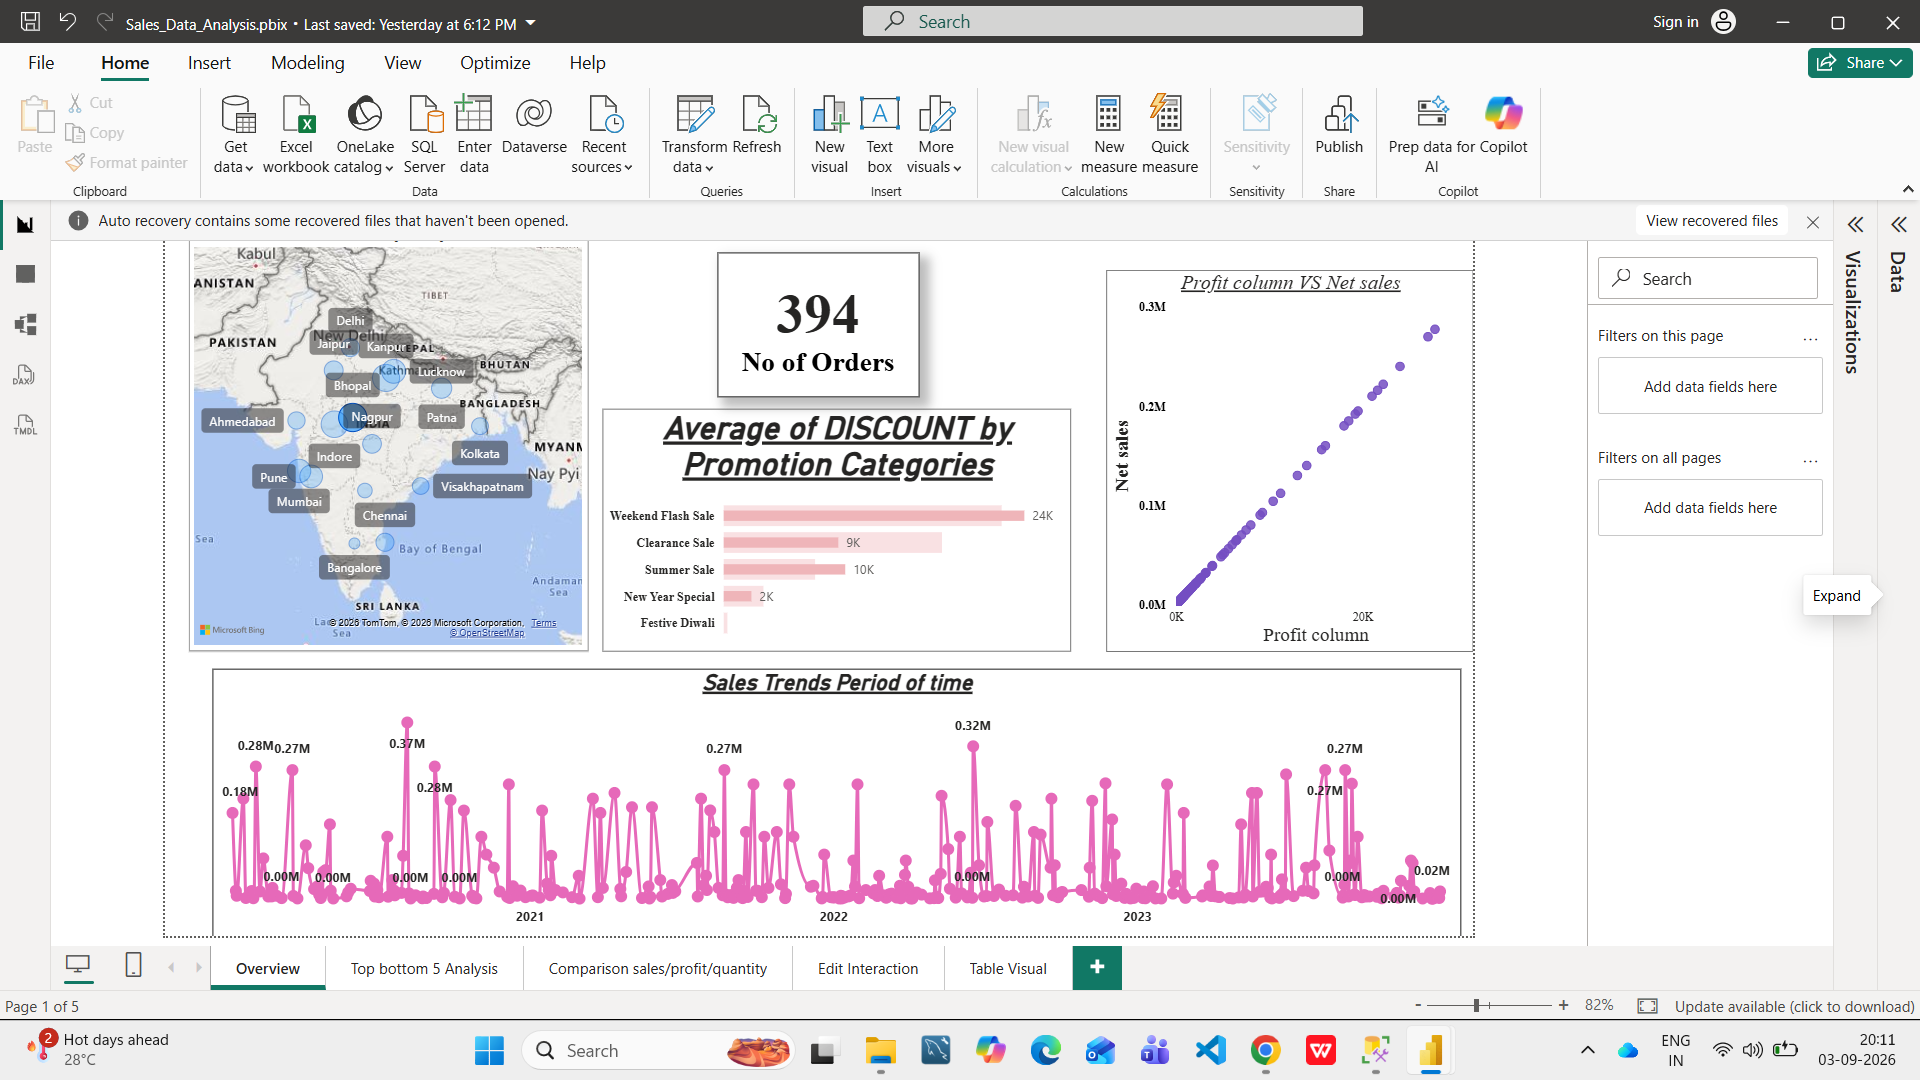

The page's visual inventory and layout, read from the dashboard file:
{"tool":"powerbi","page":{"name":"Overview","canvas":[1280,720],"ordinal":0},"visuals":[{"type":"lineChart","title":"Sales Trends Period of time","fields":{"Y":["Sum(FACT TABLE.Net sales  )"],"Category":["FACT TABLE.Date (dd/mm/yyyy).Variation.Date Hierarchy.Year"]},"box":[46.7,458.3,1221.3,262.1],"z":0},{"type":"scatterChart","title":"Profit column VS Net sales  ","fields":{"X":["FACT TABLE.Profit column"],"Y":["Sum(FACT TABLE.Net sales  )"]},"box":[920.8,68.6,359.5,373.2],"z":1000},{"type":"barChart","title":"Average of DISCOUNT by Promotion Categories","fields":{"Y":["Avg(FACT TABLE.DISCOUNT)"],"Category":["Dim Promotion.Promotion Name"]},"box":[428.1,204.5,458.3,237.4],"z":2000},{"type":"map","title":"Sales by City","fields":{"Category":["Dim Customers.City"],"Size":["Sum(FACT TABLE.Net sales)"]},"box":[23.3,16.5,391.1,425.4],"z":3000},{"type":"card","fields":{"Values":["Count(FACT TABLE.Order ID)"]},"box":[540.7,50.8,197.6,141.3],"z":4000}]}

Visuals, with their boxes on the page's 1280x720 design canvas (x1, y1, x2, y2). These are canvas units, not pixel positions in the 1920x1080 screenshot, which may show the page scaled, cropped or inside an application window:
"Sales Trends Period of time" lineChart: left=47, top=458, right=1268, bottom=720
"Profit column VS Net sales  " scatterChart: left=921, top=69, right=1280, bottom=442
"Average of DISCOUNT by Promotion Categories" barChart: left=428, top=204, right=886, bottom=442
"Sales by City" map: left=23, top=16, right=414, bottom=442
card - Count(FACT TABLE.Order ID): left=541, top=51, right=738, bottom=192
